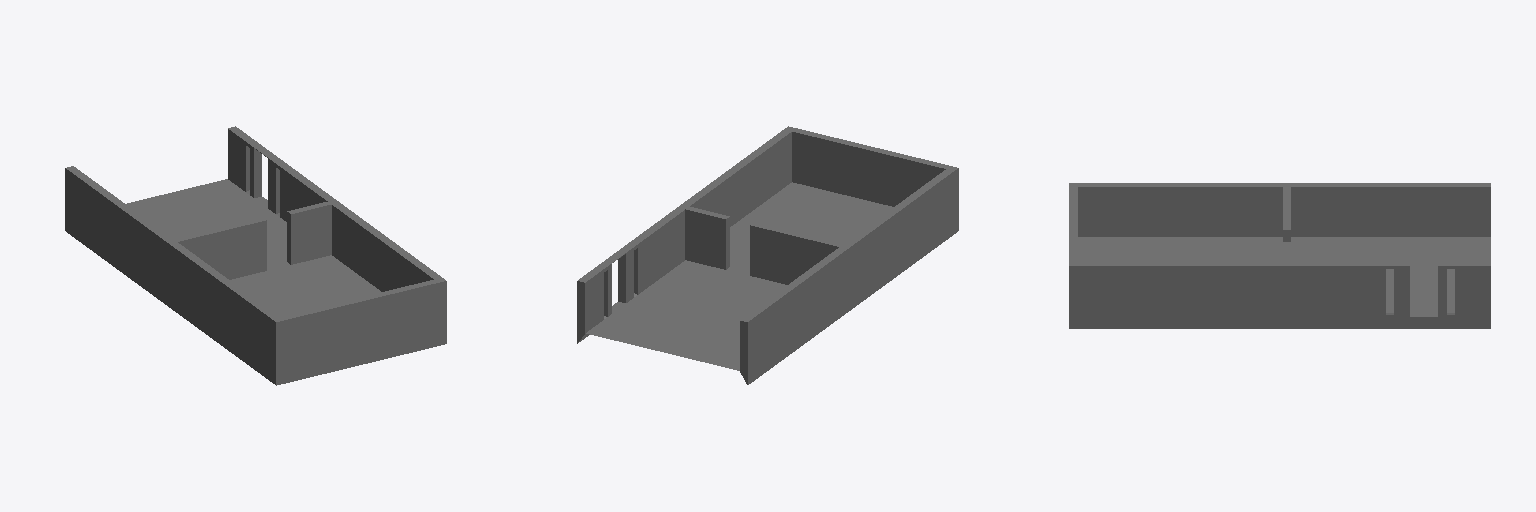
File: Raum_noMat.obj
3 renders of one model, left to right at view 1: azimuth 30°, elevation 25°; view 2: azimuth 150°, elevation 25°; view 3: azimuth 270°, elevation 25°, orthographic.
Parts seen in each view (by area): view 1: Raum_noMat:Raum1; view 2: Raum_noMat:Raum1; view 3: Raum_noMat:Raum1.
Boxes of the visible parts, x1,y1,x2,y2 form: Raum_noMat:Raum1: [65, 126, 446, 385]; Raum_noMat:Raum1: [577, 126, 958, 384]; Raum_noMat:Raum1: [1069, 183, 1490, 328].
Size of the model in its own units: 700 by 249 by 1501.